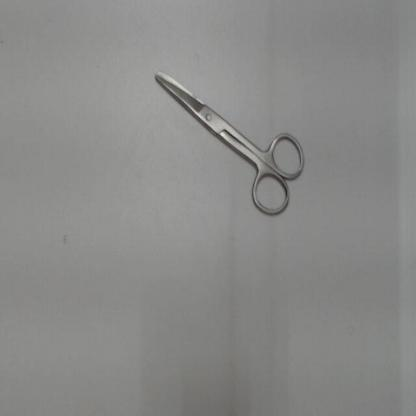Dressing Scissors: (143, 59, 313, 226)
